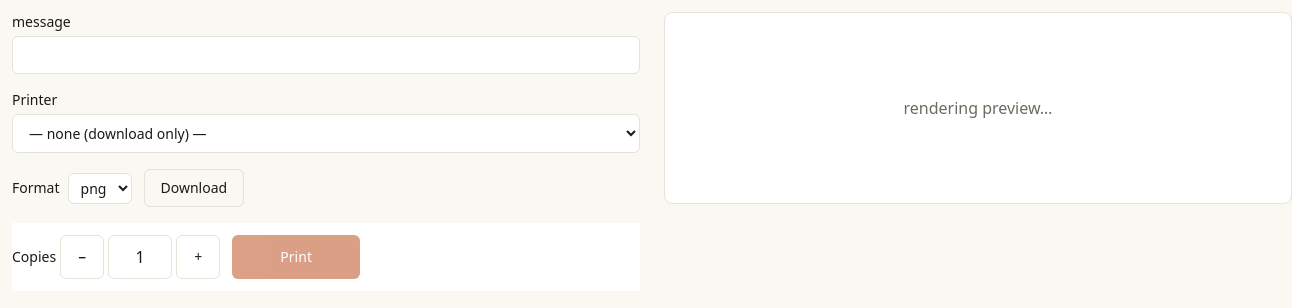
Test case: PrintForm copies › clamps the copies stepper to [1, 100]
The image size is (1292, 308).
Replace the text in the field named "copies" with "999" at (140, 257), box [108,235,172,279]
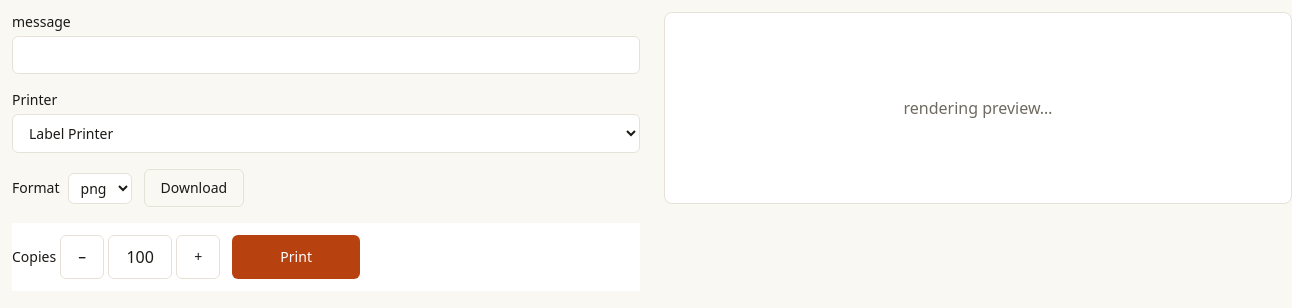
expect the field named "copies" holds "100": met
Replace the text in the field named "copies" with "0" at (140, 257), box [108,235,172,279]
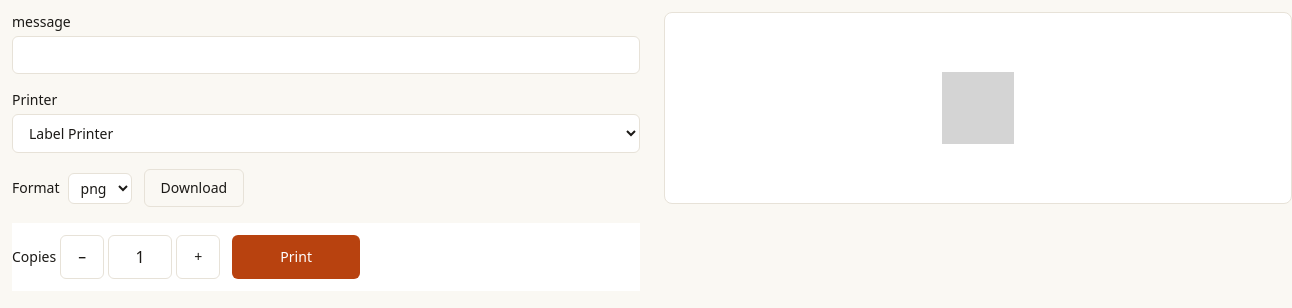
expect the field named "copies" holds "1": met, box [108,235,172,279]
